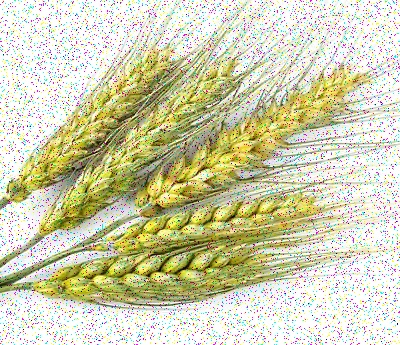wheat: (28, 69, 229, 237), (130, 76, 364, 215), (4, 41, 183, 195), (91, 188, 340, 254), (23, 248, 283, 304)
